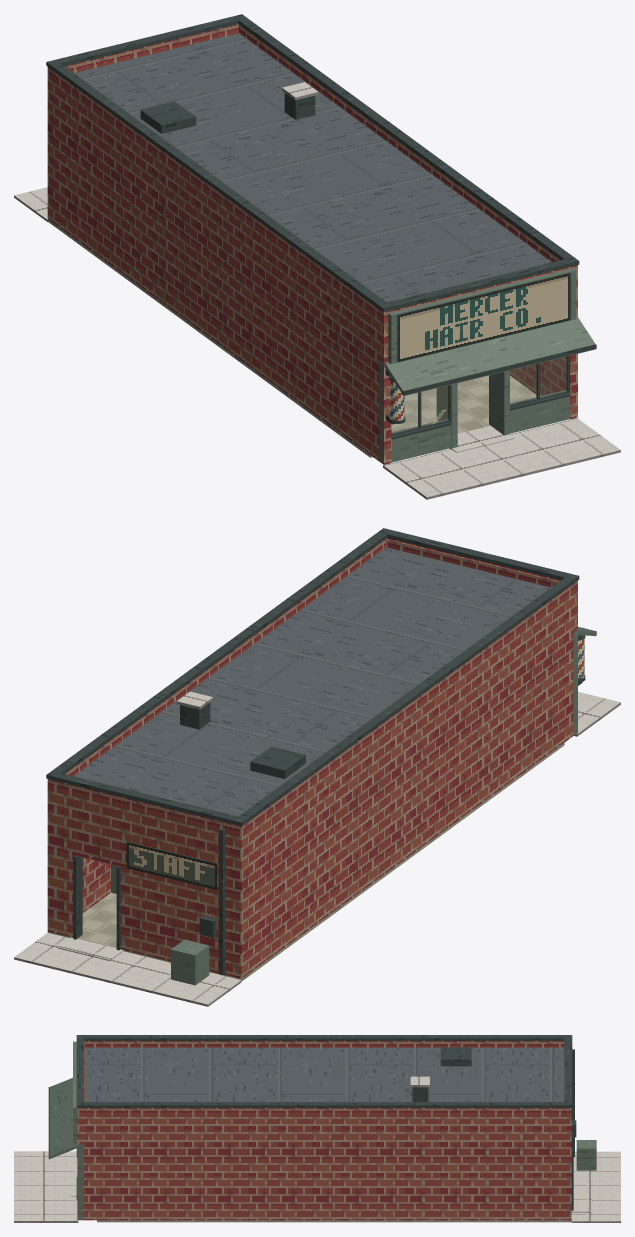
File: barber-1980-mid.glb
3 renders of one model, top to bottom at view 1: azimuth 30°, elevation 25°; view 2: azimuth 150°, elevation 25°; view 3: azimuth 270°, elevation 25°, orthographic. The views are drawn at different scales.
Parts seen in each view (by area): view 1: shell, lot, sign_name, fixed_interior; view 2: shell, lot, fixed_interior, sign_staff; view 3: shell, lot, fixed_interior.
Part boxes in pixels (box(x1,y1,x2,y2)): shell: box(46, 14, 596, 464); lot: box(14, 187, 620, 499); sign_name: box(397, 273, 570, 362); fixed_interior: box(47, 219, 536, 457); shell: box(46, 528, 596, 978); lot: box(14, 692, 620, 1006); fixed_interior: box(47, 743, 564, 981); sign_staff: box(126, 842, 216, 889); shell: box(48, 1035, 591, 1220); lot: box(14, 1140, 620, 1222); fixed_interior: box(97, 1220, 571, 1222).
Size of what is drawn, in the model's own units: 6.05 by 5.06 by 22.1.
Materials: 11 (11 with a texture image).
